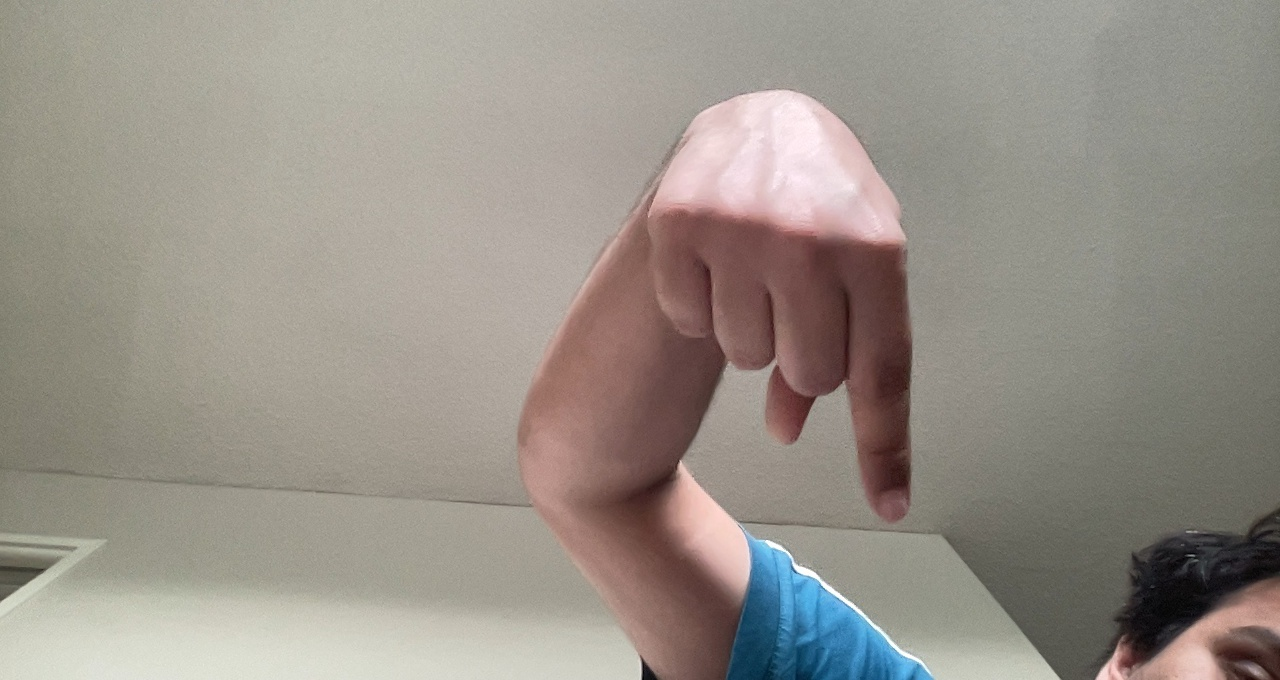fingerdown: (634, 90, 926, 527)
